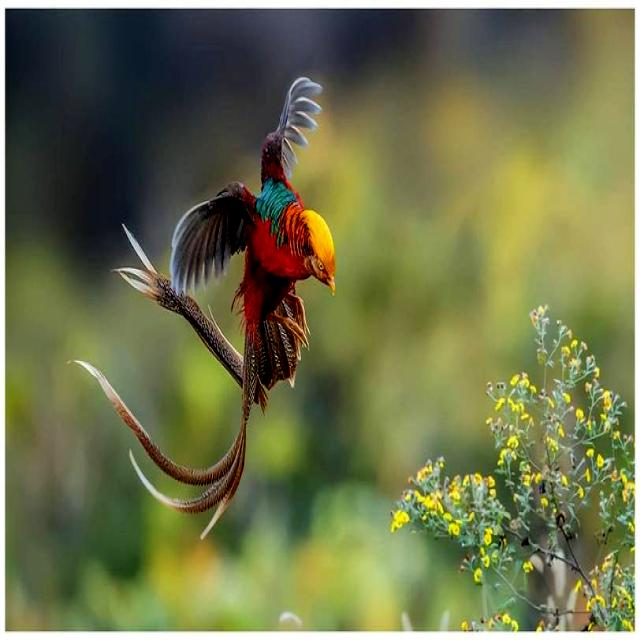Chrysolophus pictus feather: (72, 223, 310, 541)
